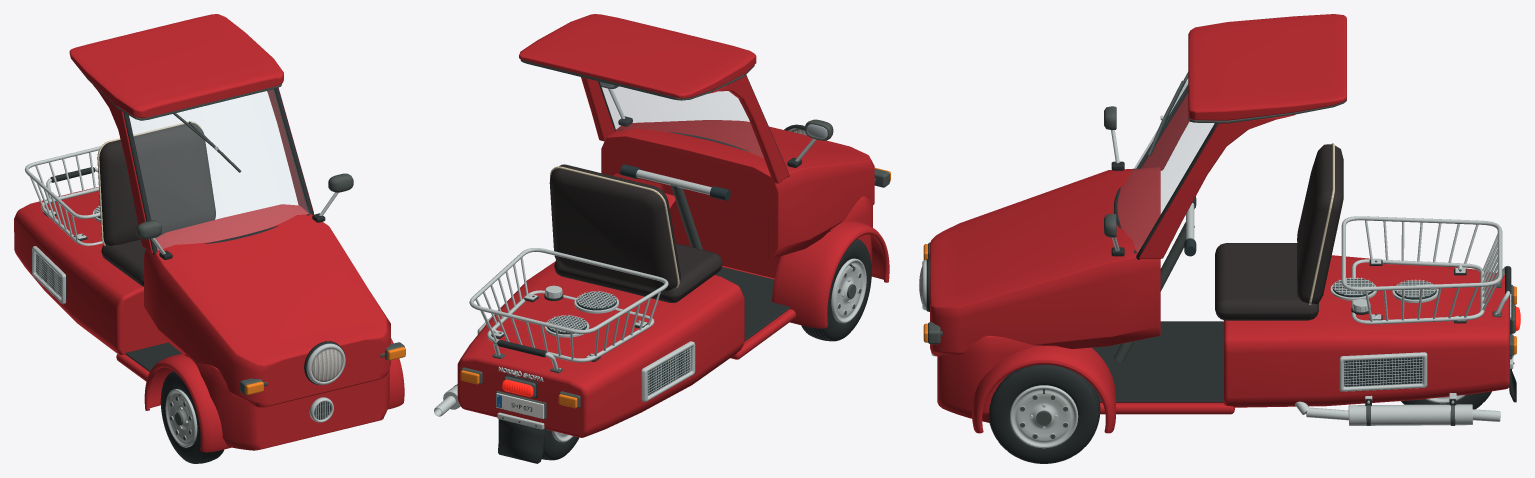
Rendered from shopping_trike.glb.
3 views of the same model, side by side, from view 1: azimuth 30°, elevation 25°; view 2: azimuth 150°, elevation 25°; view 3: azimuth 270°, elevation 25° (orthographic). The views are drawn at different scales.
Visible parts, largest first — view 1: Tilting wedge front, Wraparound windscreen, Overhanging canopy, Seat pedestal and rear deck, Upright seat back, Pressed chassis, Front mudguard, Continuous windscreen seal, Performance tire, Swept canopy pillar, Wheel hub, Seat cushion (+13 smaller); view 2: Seat pedestal and rear deck, Tilting wedge front, Upright seat back, Overhanging canopy, Wraparound windscreen, Front mudguard, Pressed chassis, Seat cushion, Rubber foot mat, Basket rim.001, Swept canopy pillar, Performance tire (+13 smaller); view 3: Tilting wedge front, Seat pedestal and rear deck, Overhanging canopy, Rubber foot mat, Seat cushion, Wraparound windscreen, Performance tire.001, Upright seat back, Front mudguard.001, Pressed chassis, Swept canopy pillar.001, Wheel hub.003 (+10 smaller).
Part boxes in pixels (x1,y1,x2,y2): Tilting wedge front: (144,204,390,407); Wraparound windscreen: (129,89,308,249); Overhanging canopy: (69,14,283,118); Seat pedestal and rear deck: (14,187,168,354); Upright seat back: (97,123,215,245); Pressed chassis: (185,354,389,450); Front mudguard: (144,353,230,452); Continuous windscreen seal: (123,88,313,254); Performance tire: (160,371,223,463); Swept canopy pillar: (92,84,152,253); Wheel hub: (165,389,197,447); Seat cushion: (101,234,161,286); Seat pedestal and rear deck: (457,262,744,437); Tilting wedge front: (601,120,874,258); Upright seat back: (549,164,680,291); Overhanging canopy: (519,14,756,98); Wraparound windscreen: (600,82,763,157); Front mudguard: (772,221,889,328); Pressed chassis: (669,196,872,278); Seat cushion: (554,243,722,302); Rubber foot mat: (715,267,789,341); Basket rim.001: (469,248,668,333); Swept canopy pillar: (709,75,789,183); Performance tire: (801,238,871,341); Tilting wedge front: (930,167,1160,356); Seat pedestal and rear deck: (1223,255,1509,407); Overhanging canopy: (1188,14,1346,120); Rubber foot mat: (1092,321,1223,402); Seat cushion: (1215,243,1318,320); Wraparound windscreen: (1117,80,1213,251); Performance tire.001: (988,364,1100,463); Upright seat back: (1297,144,1343,304); Front mudguard.001: (972,346,1115,433); Pressed chassis: (937,335,1058,422); Swept canopy pillar.001: (1139,114,1295,258); Wheel hub.003: (1010,385,1078,448).
Size of the model in its own units: 1.15 by 1.6 by 2.43.
